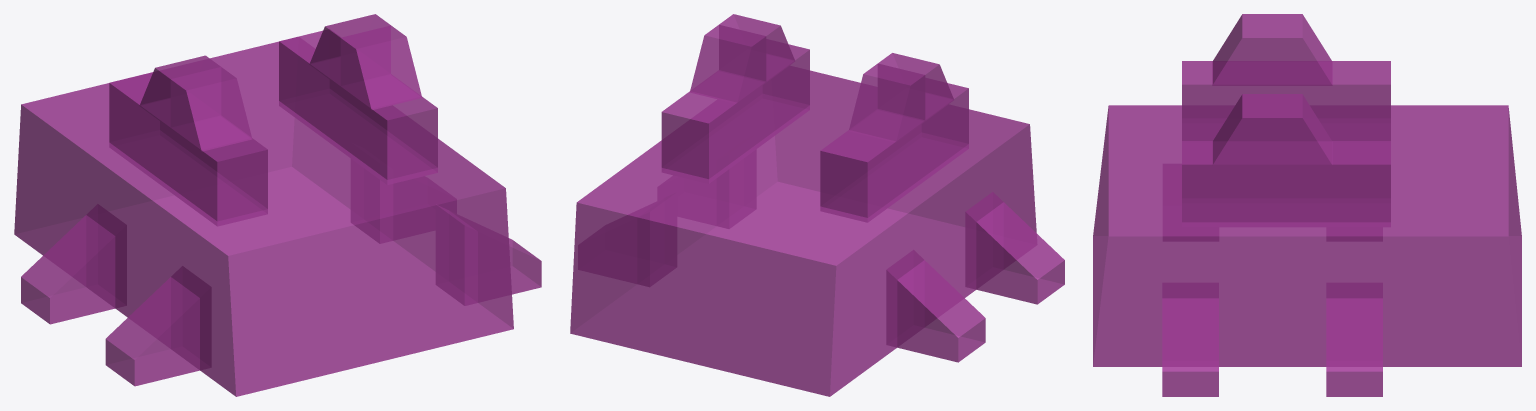
File: SM_Wep_Cannon_05_Collision.fbx
3 renders of one model, left to right at view 1: azimuth 30°, elevation 25°; view 2: azimuth 150°, elevation 25°; view 3: azimuth 270°, elevation 25°, orthographic. The views are drawn at different scales.
Visible parts, largest first — view 1: SM_Wep_Cannon_05_Collision; view 2: SM_Wep_Cannon_05_Collision; view 3: SM_Wep_Cannon_05_Collision.
Part boxes in pixels (x1,y1,x2,y2): SM_Wep_Cannon_05_Collision: (14, 14, 541, 396); SM_Wep_Cannon_05_Collision: (570, 14, 1064, 396); SM_Wep_Cannon_05_Collision: (1093, 14, 1521, 396).
Bounding box in the file's own units: 274 × 157 × 259.
